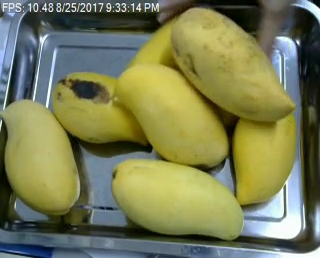Mango: (169, 7, 295, 122), (114, 61, 230, 168), (111, 158, 244, 239), (0, 99, 80, 214), (53, 70, 153, 146), (233, 90, 296, 205), (127, 13, 190, 73)
